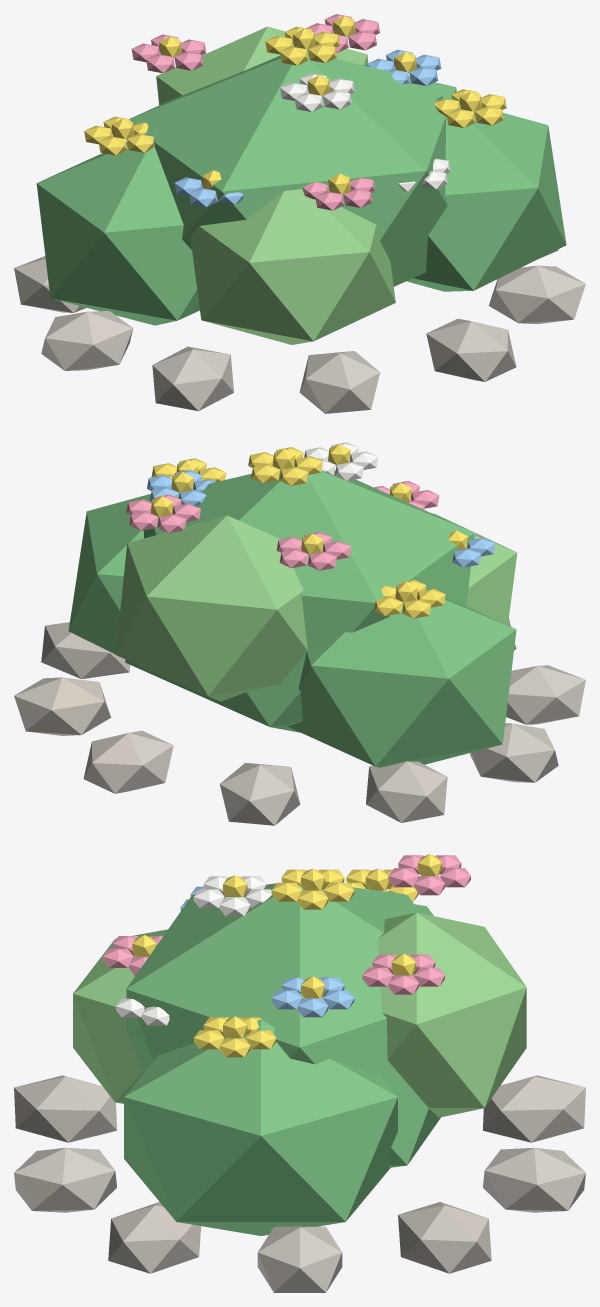
Rendered from Park_FlowerBush.fbx.
3 renders of one model, top to bottom at view 1: azimuth 30°, elevation 25°; view 2: azimuth 150°, elevation 25°; view 3: azimuth 270°, elevation 25°, orthographic. The views are drawn at different scales.
Parts seen in each view (by area): view 1: Park_FlowerBush; view 2: Park_FlowerBush; view 3: Park_FlowerBush.
Boxes of the visible parts, bbox=[...] form: Park_FlowerBush: bbox=[14, 14, 585, 413]; Park_FlowerBush: bbox=[14, 442, 585, 825]; Park_FlowerBush: bbox=[14, 854, 585, 1292].
Bounding box in the file's own units: 1.01 × 0.539 × 0.8819.
